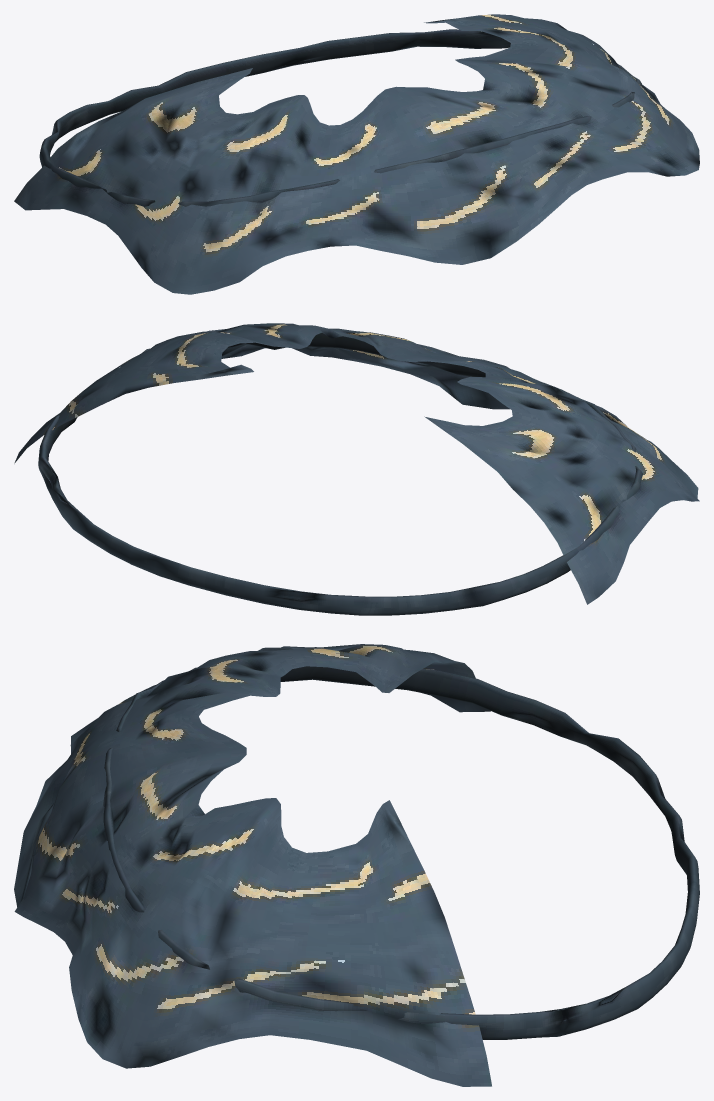
Rendered from sleepmask.glb.
The picture shows the model from 3 angles, top to bottom: view 1: azimuth 30°, elevation 25°; view 2: azimuth 150°, elevation 25°; view 3: azimuth 270°, elevation 25°; orthographic projection. The views are drawn at different scales.
Visible parts, largest first — view 1: sleepmask_mask, sleepmask_elastic; view 2: sleepmask_mask, sleepmask_elastic; view 3: sleepmask_mask, sleepmask_elastic.
Part boxes in pixels (box(x1,y1,x2,y2)): sleepmask_mask: box(14, 14, 699, 294); sleepmask_elastic: box(39, 29, 642, 206); sleepmask_mask: box(14, 323, 699, 604); sleepmask_elastic: box(38, 329, 642, 615); sleepmask_mask: box(14, 644, 491, 1086); sleepmask_elastic: box(103, 666, 699, 1039).
Size of the model in its own units: 25.19 by 5 by 19.
1 material, 1 textured.
